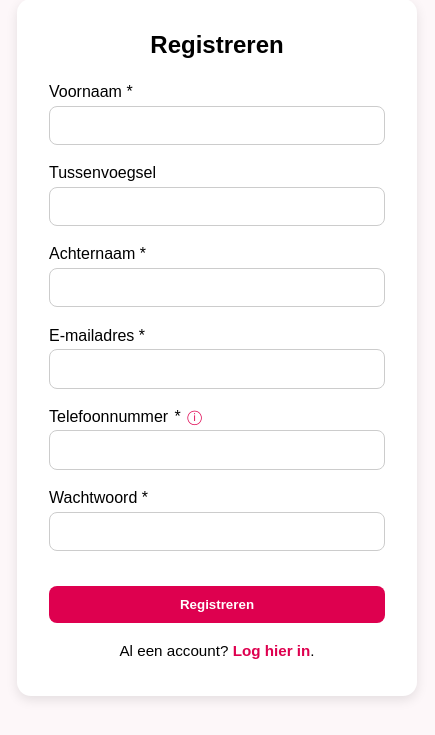
Register component › registreert succesvol en toont bevestiging
This screenshot has width=435, height=735.
Type "Jan" into the field labelled "Voornaam *".
click(217, 125); type("Jan")  # box [49, 106, 385, 145]
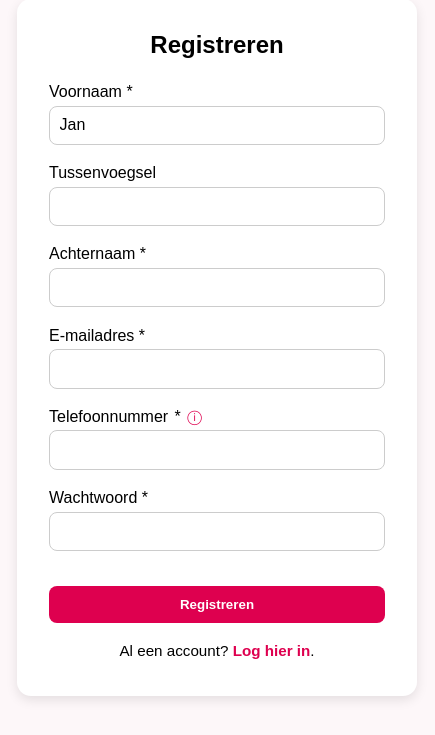
Type "Jansen" into the field labelled "Achternaam *".
click(217, 288); type("Jansen")  # box [49, 268, 385, 307]
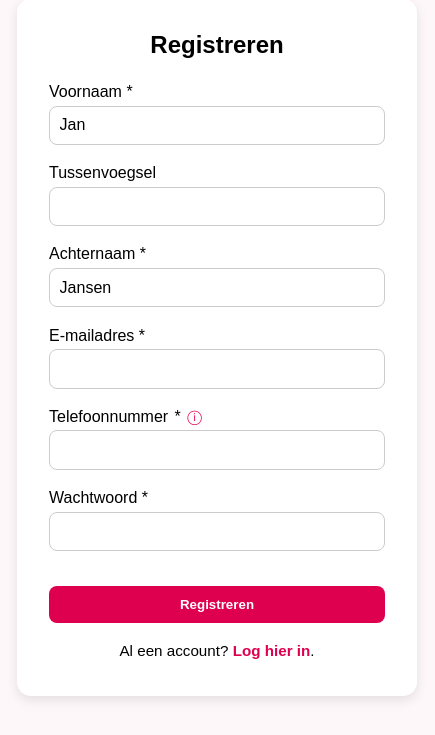
Type "jan@example.com" into the field labelled "E-mailadres *".
click(217, 369); type("jan@example.com")  # box [49, 349, 385, 388]
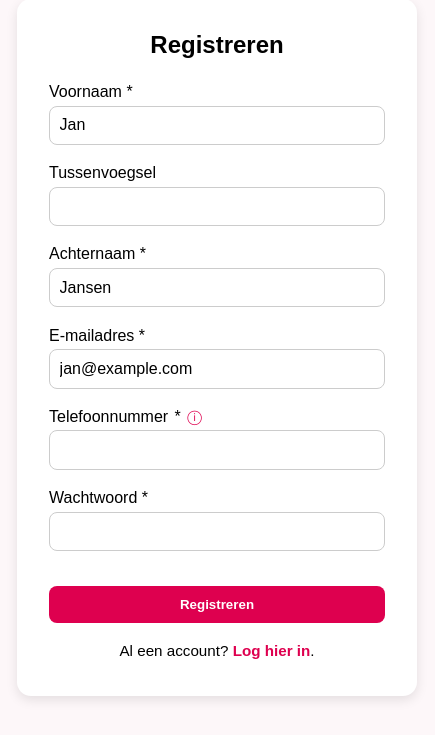
Type "0612345678" into the field labelled "Telefoonnummer * ⓘ".
click(217, 450); type("0612345678")  # box [49, 430, 385, 470]
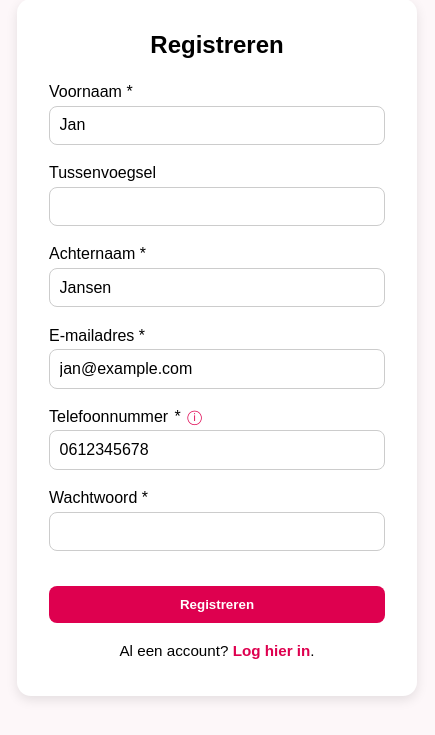
Type "wachtwoord" into the password field labelled "Wachtwoord *".
click(217, 531); type("wachtwoord")  # box [49, 512, 385, 551]
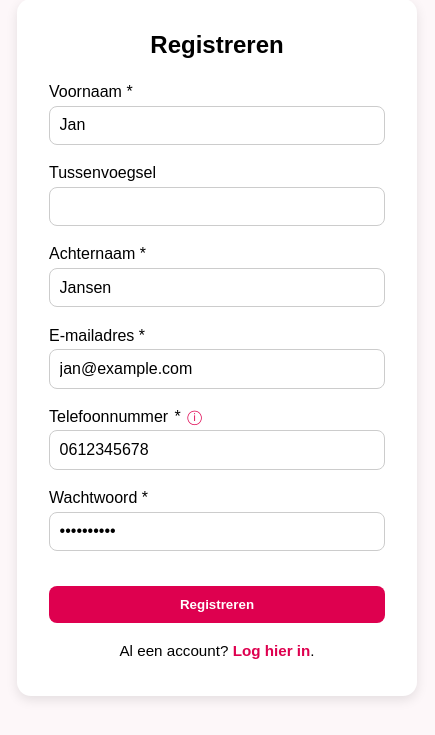
Click the button "Registreren".
click(217, 605)  # box [49, 586, 385, 623]
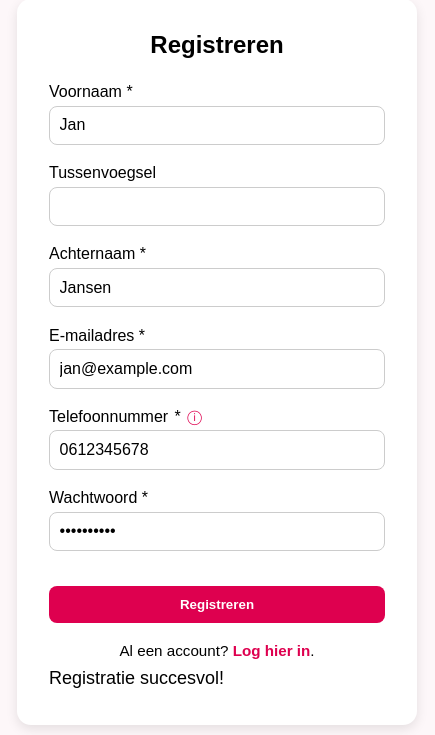
expect the text "Registratie succesvol!" is shown: met, box [49, 668, 224, 688]
